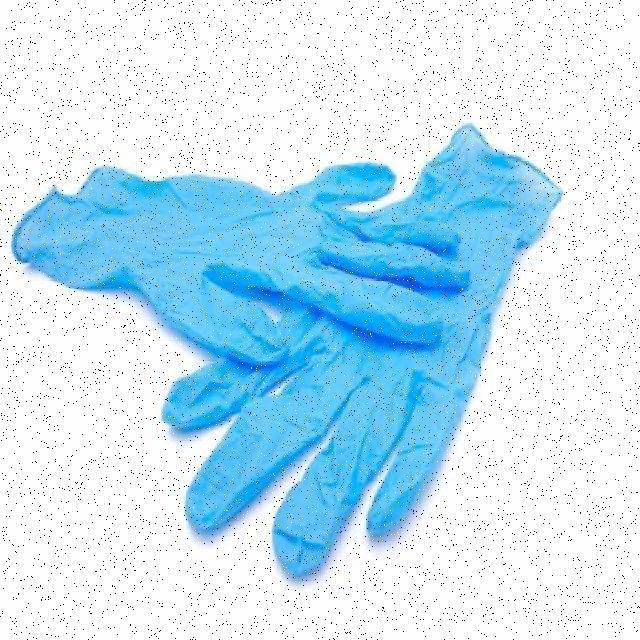Guantes: (204, 126, 512, 546), (40, 152, 464, 354)
